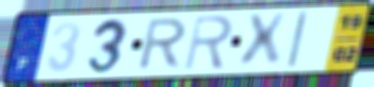3: (85, 16, 133, 77), (45, 19, 86, 75)
I: (285, 9, 310, 70)
R: (134, 16, 191, 73), (182, 14, 235, 73)
X: (237, 11, 289, 71)
